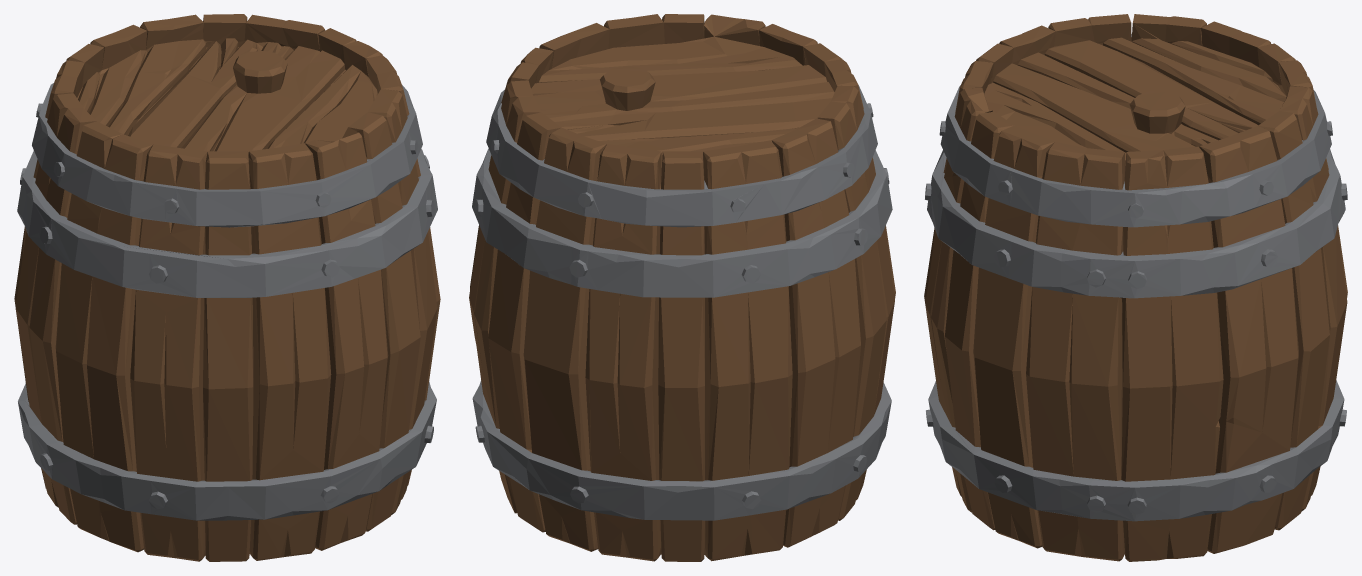
The model's file is WoodenBarrel.fbx.
The picture shows the model from 3 angles, left to right: view 1: azimuth 30°, elevation 25°; view 2: azimuth 150°, elevation 25°; view 3: azimuth 270°, elevation 25°; orthographic projection.
Visible parts, largest first — view 1: WoodenBarrel_LOD0; view 2: WoodenBarrel_LOD0; view 3: WoodenBarrel_LOD0.
Part boxes in pixels (box(x1,y1,x2,y2)): WoodenBarrel_LOD0: box(14, 14, 440, 561); WoodenBarrel_LOD0: box(469, 14, 895, 561); WoodenBarrel_LOD0: box(924, 14, 1347, 561).
Size of what is drawn, in the model's own units: 0.6045 by 0.6051 by 0.6427.
